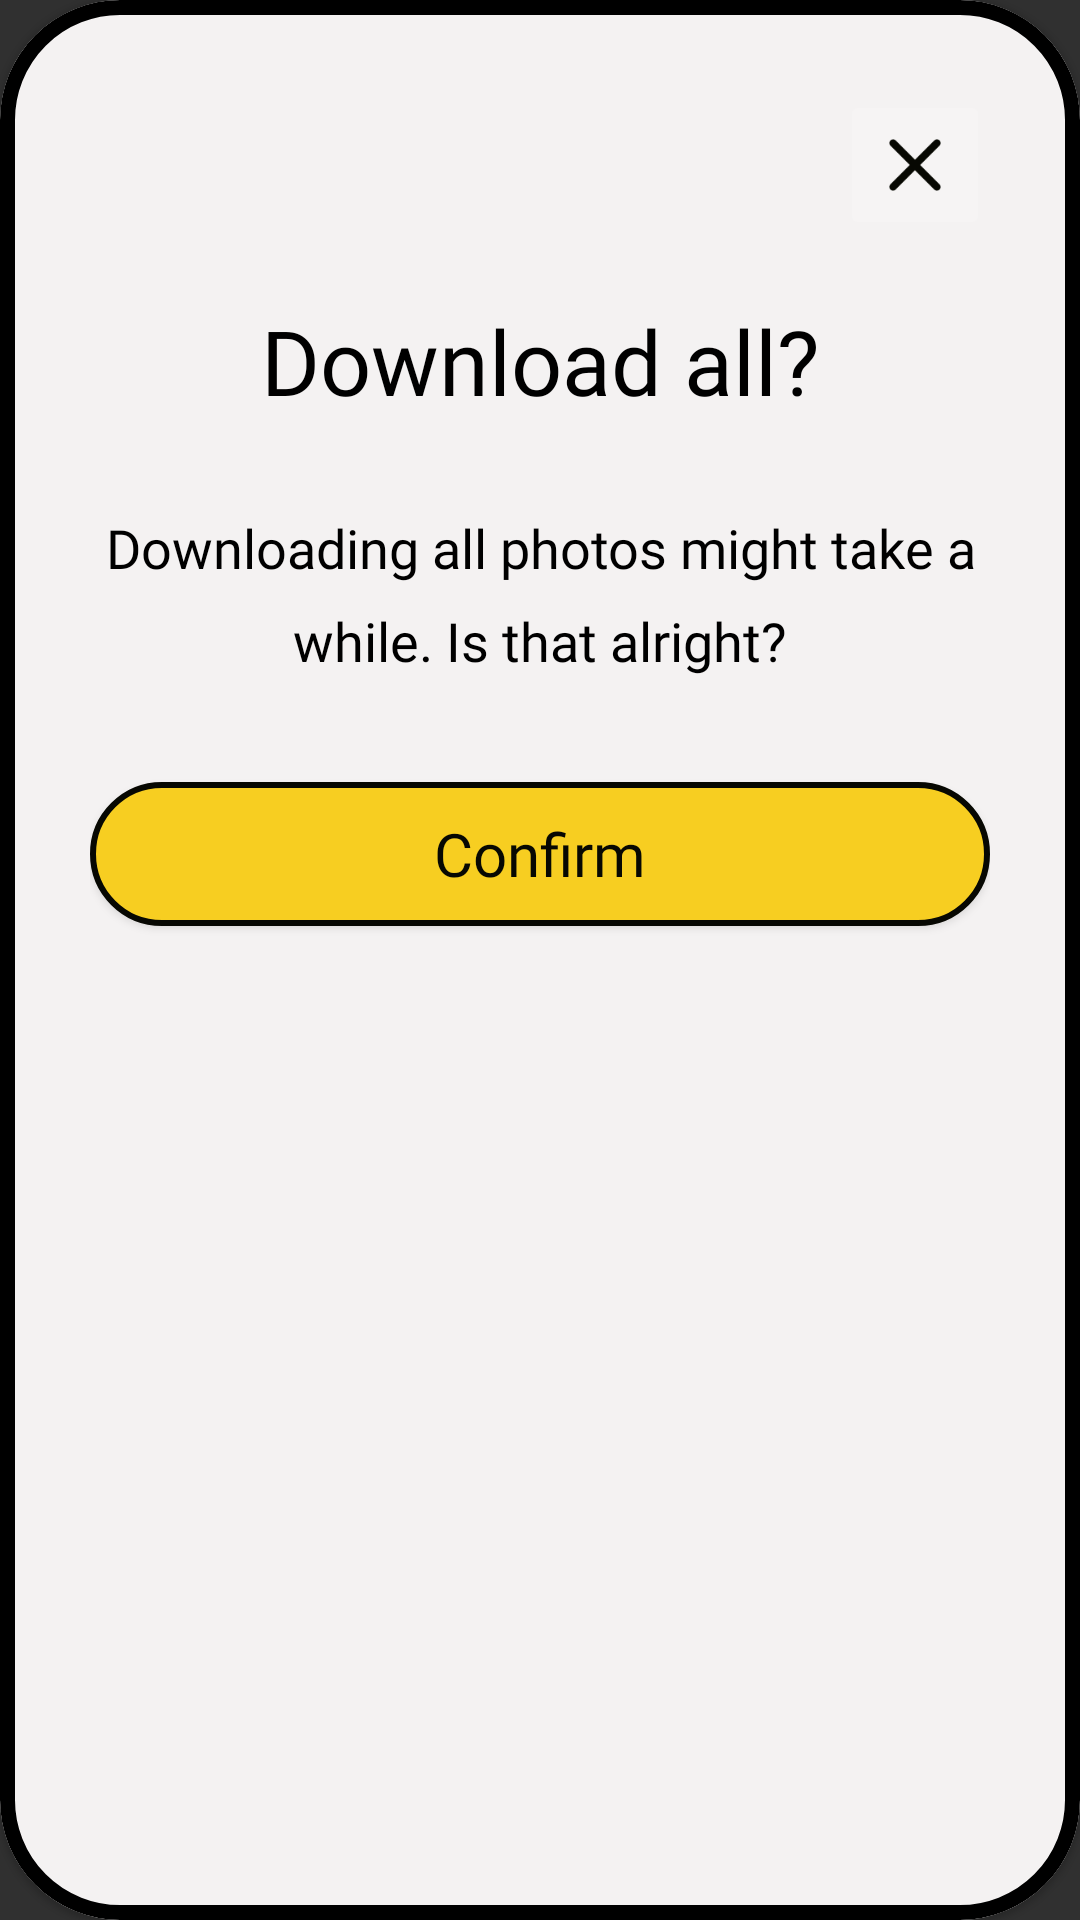

Where icons sit on this 1080px×1920px app screen, as bbox(x1, y1, x2, y2):
close: bbox(889, 139, 941, 191)
